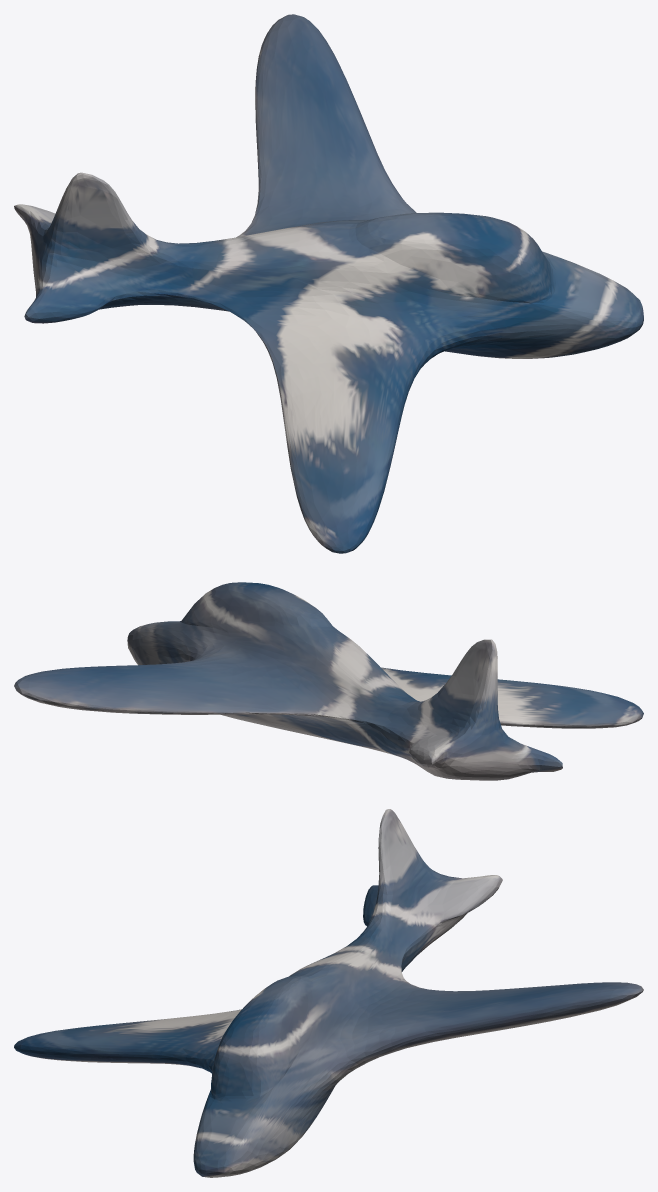
3 views of the same model, one above another, from view 1: azimuth 30°, elevation 25°; view 2: azimuth 150°, elevation 25°; view 3: azimuth 270°, elevation 25° (orthographic). The views are drawn at different scales.
Parts seen in each view (by area): view 1: geometry_0; view 2: geometry_0; view 3: geometry_0.
Part boxes in pixels (x1=…): geometry_0: x1=14, y1=14, x2=643, y2=553; geometry_0: x1=14, y1=582, x2=643, y2=780; geometry_0: x1=14, y1=809, x2=643, y2=1177.
Size of the model in its own units: 0.87 by 0.3798 by 1.
